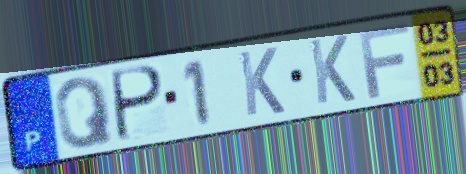1: (181, 57, 215, 127)
F: (356, 20, 413, 101)
K: (236, 44, 288, 119), (306, 32, 358, 107)
P: (111, 63, 167, 145)
Q: (52, 74, 118, 152)
